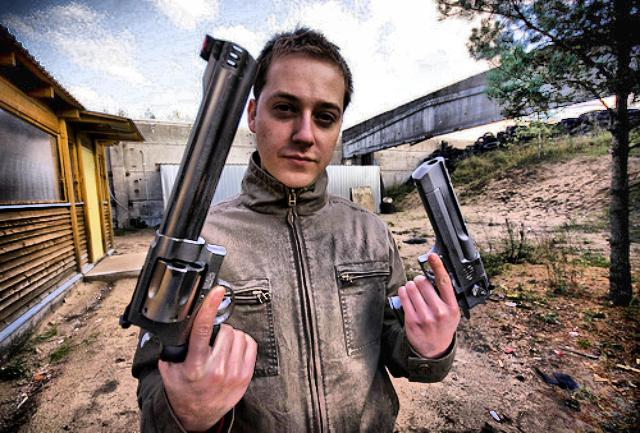pistol: (115, 34, 257, 368), (393, 152, 492, 328)
